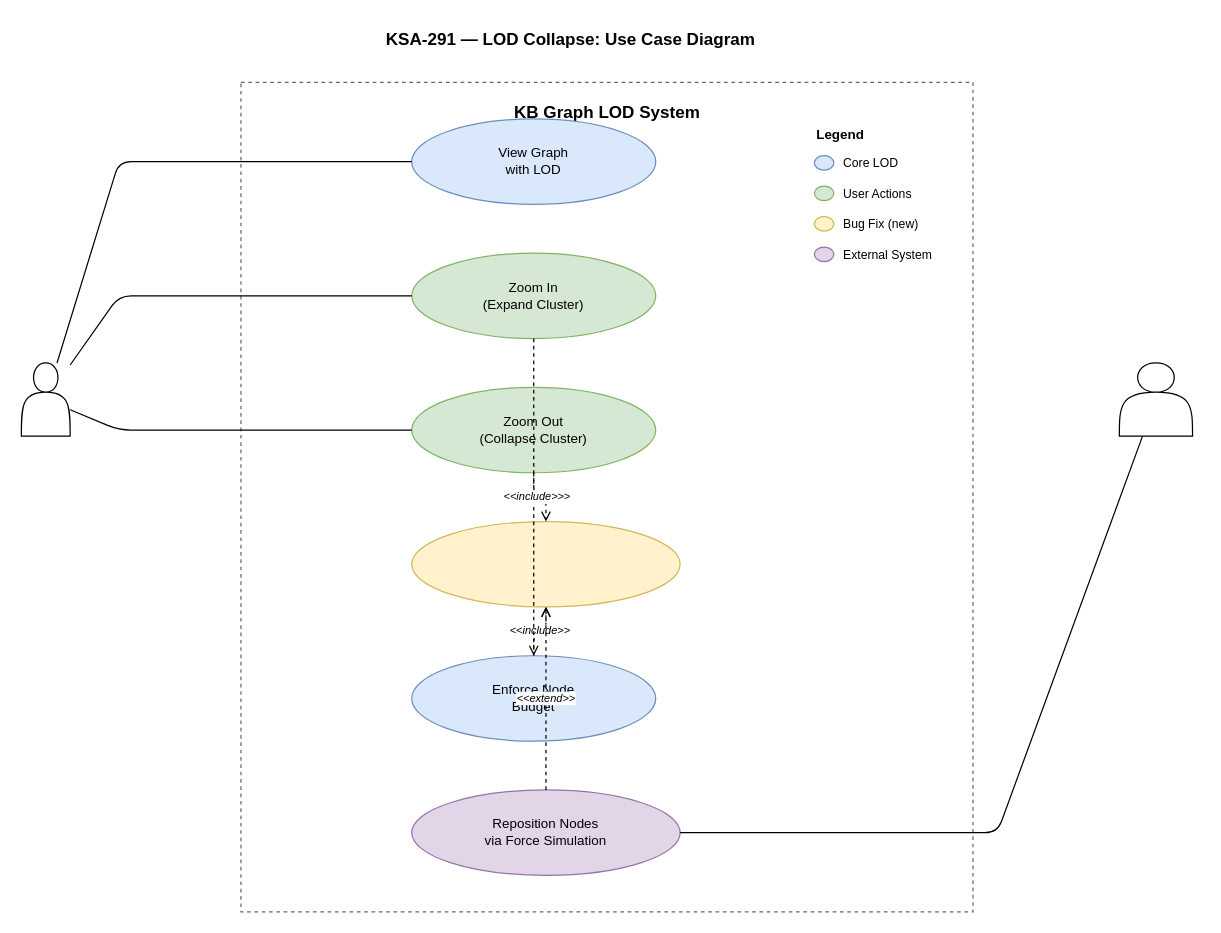
Some shapes in this 1221 by 933 pixel diagram are drawn without their labels. Here are the shapes that lost their labels. From the top down, the centre of each, then its label:
At [45,399]: "Graph User".
At [1155,399]: "ForceGraph3D (Force Sim)".
At [545,563]: "Calculate Dynamic Centroid of Children".
